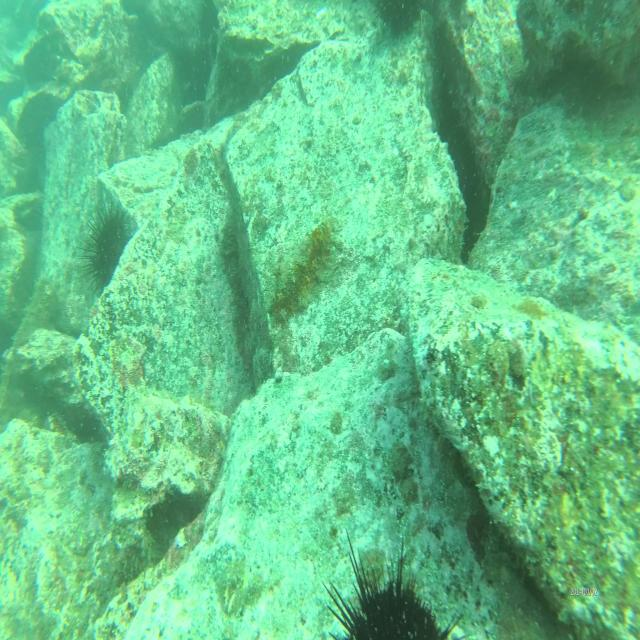echinus: (322, 521, 467, 640), (81, 193, 135, 297), (366, 0, 433, 40)
